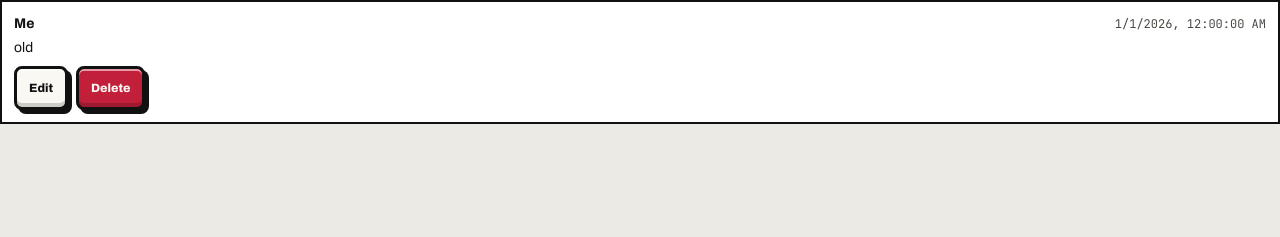
it: CommentList › cancels editing without calling onEdit
Click the button with aria-label "Edit comment: old" at (41, 88), box [14,66,68,110]
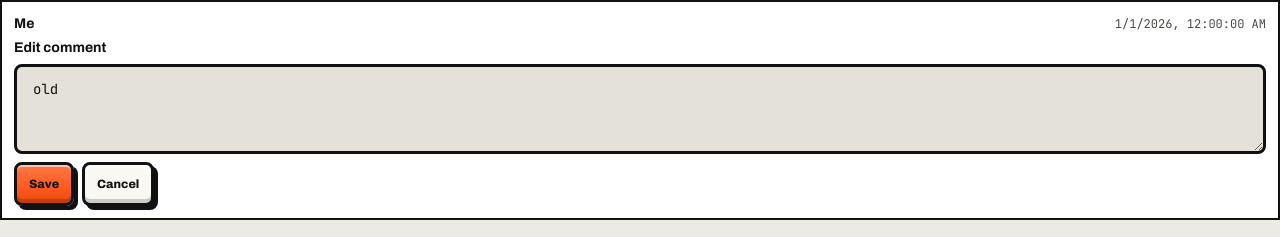
Click the button "Cancel" at (118, 184), box [82,162,154,206]
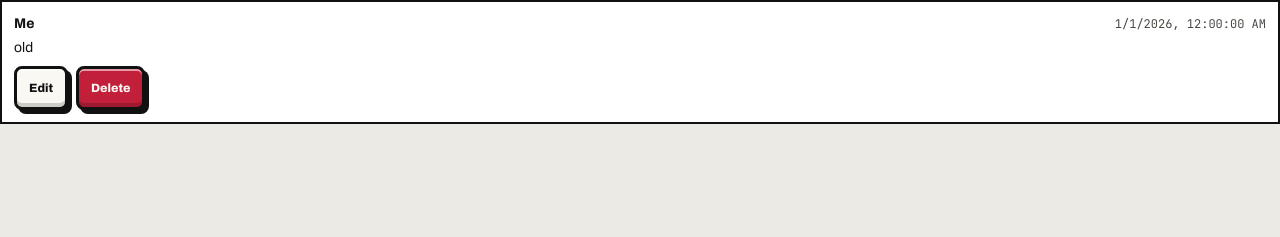
Now the text "old" is shown, box [14,40,33,55]
